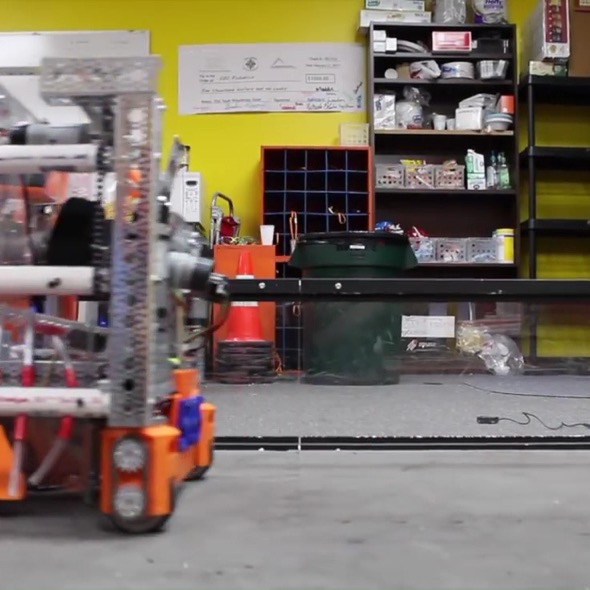robot: (0, 55, 217, 542)
